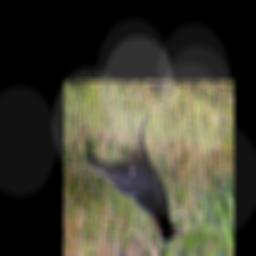Crow: (83, 112, 184, 242)
